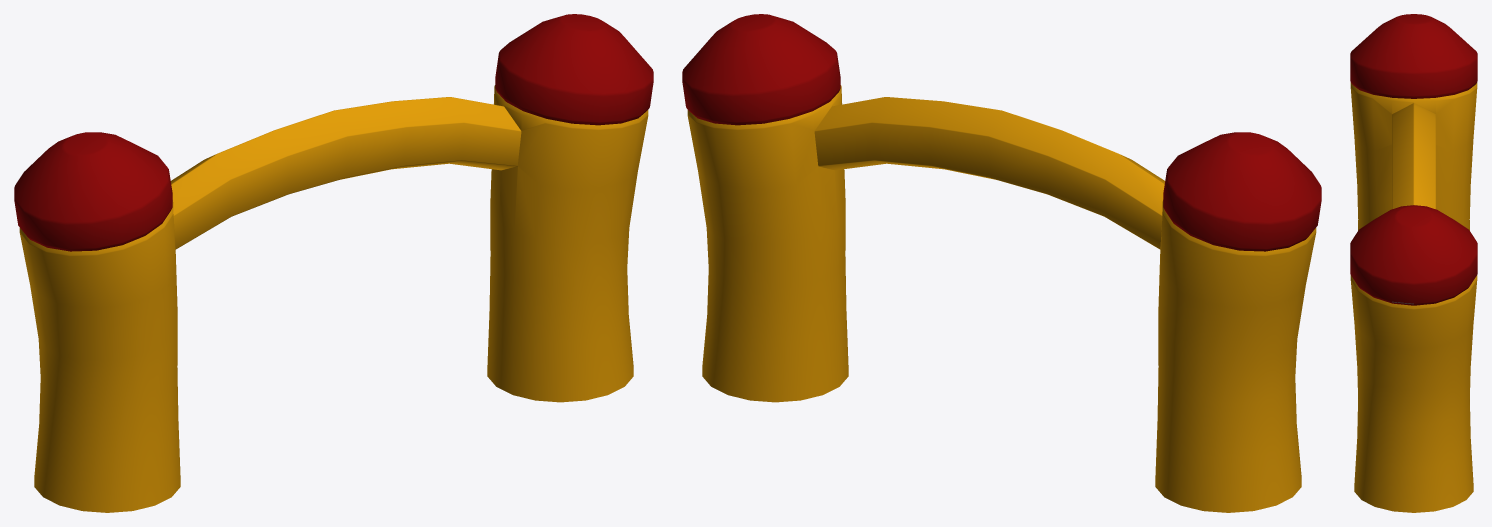
The model's file is Arche.FBX.
3 views of the same model, side by side, from view 1: azimuth 30°, elevation 25°; view 2: azimuth 150°, elevation 25°; view 3: azimuth 270°, elevation 25° (orthographic). The views are drawn at different scales.
Parts seen in each view (by area): view 1: Cylinder001; view 2: Cylinder001; view 3: Cylinder001.
Boxes of the visible parts, bbox=[...] form: Cylinder001: bbox=[14, 14, 653, 512]; Cylinder001: bbox=[682, 14, 1321, 512]; Cylinder001: bbox=[1350, 14, 1477, 512].
Bounding box in the file's own units: 90.38 × 48.24 × 19.69.
